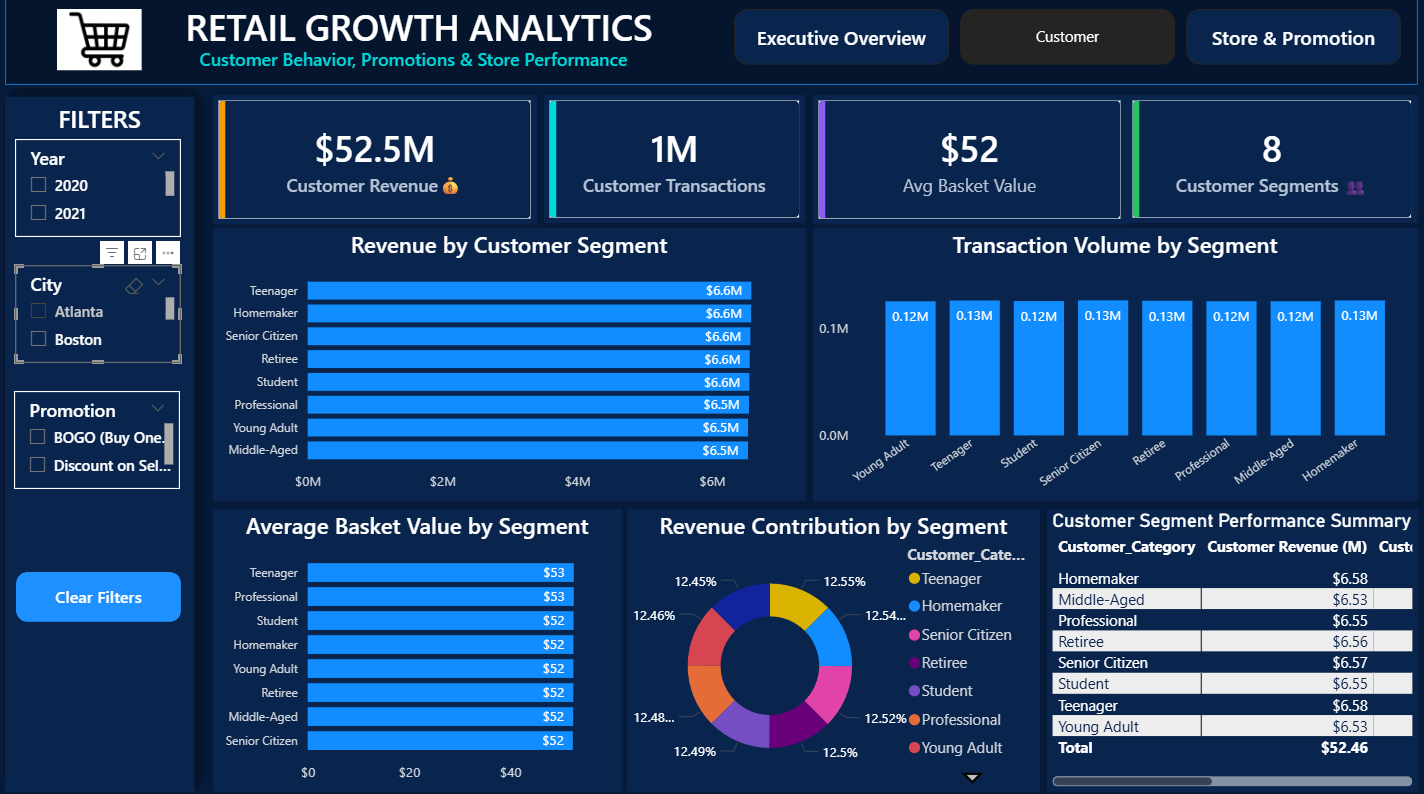

Layout of this report page (visuals, bound fields, positions):
{"tool":"powerbi","page":{"name":"Customer ","canvas":[1280,720],"ordinal":1},"visuals":[{"type":"shape","box":[4.5,82.6,180.4,632],"z":0},{"type":"shape","box":[5.4,0,1268.5,79.9],"z":1000},{"type":"textbox","box":[162.5,0,439.9,55.7],"z":2000},{"type":"image","box":[52.2,11.9,75.9,54.9],"z":3000},{"type":"textbox","box":[175.1,40.4,394.1,30.5],"z":4000},{"type":"cardVisual","title":"Customer Revenue","fields":{"Data":["retail_dashboard.Customer Revenue"]},"box":[192.1,88.7,291,116.2],"z":5000},{"type":"cardVisual","title":"Customer Segments","fields":{"Data":["retail_dashboard.Customer Segments"]},"box":[1012.8,88.7,260.8,115.3],"z":6000},{"type":"cardVisual","title":"Avg Basket Value","fields":{"Data":["retail_dashboard.Avg Basket Value"]},"box":[731,88.7,281.8,116.2],"z":7000},{"type":"cardVisual","title":"Customer Transactions","fields":{"Data":["retail_dashboard.Customer Transactions"]},"box":[489.5,88.7,234.2,115.3],"z":8000},{"type":"clusteredBarChart","title":"Revenue by Customer Segment","fields":{"Category":["retail_dashboard.Customer_Category"],"Y":["retail_dashboard.Total Revenue"]},"box":[192.1,208.7,531.6,245.2],"z":9000},{"type":"textbox","box":[5.4,90.7,169.7,623.9],"z":10000},{"type":"slicer","fields":{"Values":["retail_dashboard.City"]},"box":[14.5,241.7,149,88],"z":11000},{"type":"slicer","fields":{"Values":["retail_dashboard.Year"]},"box":[14.4,128.4,149,88],"z":12000},{"type":"slicer","fields":{"Values":["retail_dashboard.Promotion"]},"box":[13.7,355,149.1,87.8],"z":15000},{"type":"actionButton","title":"Clear Filter","box":[15.6,516.9,148.2,44.8],"z":16000},{"type":"columnChart","title":"Transaction Volume by Segment","fields":{"Category":["retail_dashboard.Customer_Category"],"Y":["retail_dashboard.Total Transactions"]},"box":[731,208.7,542.6,245.2],"z":17000},{"type":"clusteredBarChart","title":"Average Basket Value by Segment","fields":{"Category":["retail_dashboard.Customer_Category"],"Y":["retail_dashboard.Avg Basket Value"]},"box":[192.1,460.2,366.9,254.4],"z":18000},{"type":"donutChart","title":"Revenue Contribution by Segment","fields":{"Category":["retail_dashboard.Customer_Category"],"Y":["retail_dashboard.Customer Revenue"]},"box":[563.6,460.2,370.6,254.4],"z":19000},{"type":"pivotTable","title":"Customer Segment Performance Summary","fields":{"Rows":["retail_dashboard.Customer_Category"],"Values":["retail_dashboard.Customer Revenue (M)","retail_dashboard.Customer Transactions","retail_dashboard.Avg Basket Value"]},"box":[940.6,460.2,333,254.4],"z":20000},{"type":"pageNavigator","box":[659.7,11.9,600.2,50.3],"z":20001}]}

Visuals, with their boxes in screenshot pixels (x1, y1, x2, y2), scaled from the page's 1280x720 canvas onto the 1424x794 screenshot:
shape: [5, 91, 206, 788]
shape: [6, 0, 1417, 88]
textbox: [181, 0, 670, 61]
image: [58, 13, 143, 74]
textbox: [195, 45, 633, 78]
"Customer Revenue" cardVisual: [214, 98, 537, 226]
"Customer Segments" cardVisual: [1127, 98, 1417, 225]
"Avg Basket Value" cardVisual: [813, 98, 1127, 226]
"Customer Transactions" cardVisual: [545, 98, 805, 225]
"Revenue by Customer Segment" clusteredBarChart: [214, 230, 805, 501]
textbox: [6, 100, 195, 788]
slicer - retail_dashboard.City: [16, 267, 182, 364]
slicer - retail_dashboard.Year: [16, 142, 182, 239]
slicer - retail_dashboard.Promotion: [15, 391, 181, 488]
"Clear Filter" actionButton: [17, 570, 182, 619]
"Transaction Volume by Segment" columnChart: [813, 230, 1417, 501]
"Average Basket Value by Segment" clusteredBarChart: [214, 507, 622, 788]
"Revenue Contribution by Segment" donutChart: [627, 507, 1039, 788]
"Customer Segment Performance Summary" pivotTable: [1046, 507, 1417, 788]
pageNavigator: [734, 13, 1402, 69]
